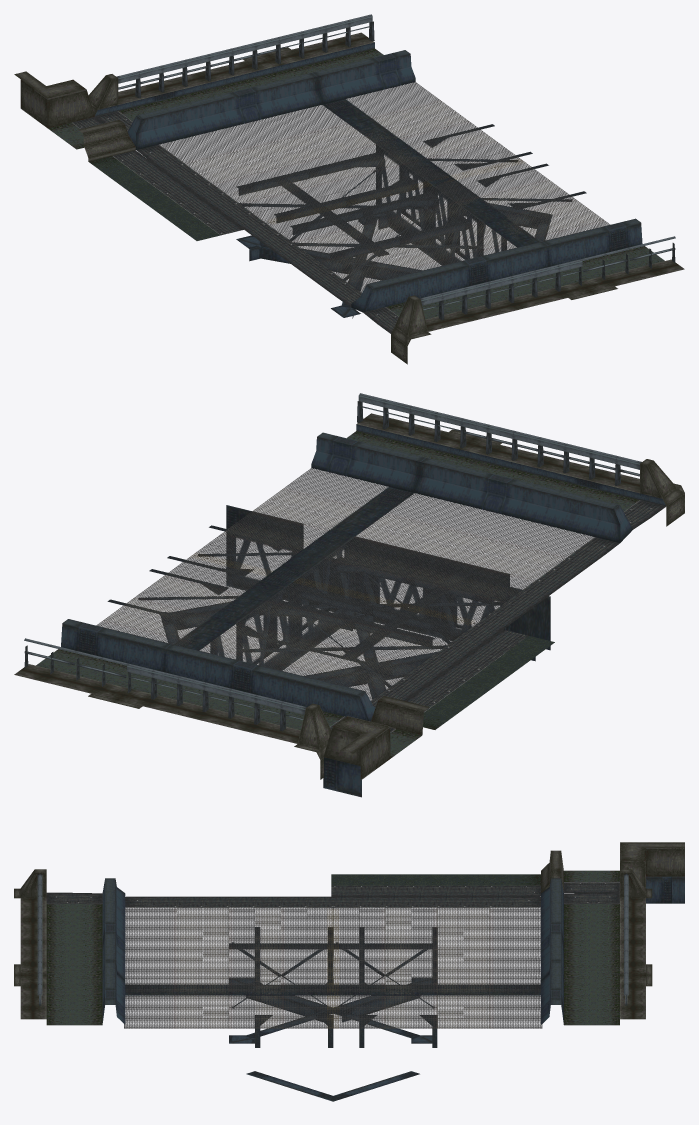
Rendered from THR05FE.glb.
3 renders of one model, top to bottom at view 1: azimuth 30°, elevation 25°; view 2: azimuth 150°, elevation 25°; view 3: azimuth 270°, elevation 25°, orthographic. The views are drawn at different scales.
Parts seen in each view (by area): view 1: AXIS1_HI_m8, AXIS1_HI_m2, AXIS1_HI_m0, AXIS1_HI_m9, AXIS1_HI_m7, AXIS1_HI_m1, AXIS2_BA_m0, AXIS1_HI_m4, AXIS2_BA_m2, AXIS1_HI_m5, C202_1_N_m0, THRC201_m0 (+6 smaller); view 2: AXIS1_HI_m2, AXIS2_BA_m0, AXIS1_HI_m8, AXIS1_HI_m0, AXIS1_HI_m1, AXIS1_HI_m9, AXIS1_HI_m7, AXIS1_HI_m4, AXIS2_BA_m2, AXIS1_HI_m5, C202_1_N_m0, THRC201_m0 (+6 smaller); view 3: AXIS1_HI_m2, AXIS1_HI_m8, AXIS1_HI_m0, AXIS1_HI_m9, AXIS1_HI_m4, AXIS1_HI_m5, AXIS1_HI_m1, AXIS1_HI_m7, C202_1_N_m0, THRC201_m0, AXIS2_BA_m3, AXIS2_BA_m0 (+3 smaller).
Boxes of the visible parts, x1,y1,x2,y2 form: AXIS1_HI_m8: [136, 105, 430, 228]; AXIS1_HI_m2: [243, 183, 556, 307]; AXIS1_HI_m0: [323, 99, 642, 309]; AXIS1_HI_m9: [312, 50, 522, 181]; AXIS1_HI_m7: [118, 32, 383, 149]; AXIS1_HI_m1: [351, 241, 684, 312]; AXIS2_BA_m0: [274, 139, 571, 265]; AXIS1_HI_m4: [363, 259, 594, 364]; AXIS2_BA_m2: [236, 124, 586, 262]; AXIS1_HI_m5: [88, 14, 372, 131]; C202_1_N_m0: [14, 71, 135, 161]; THRC201_m0: [89, 150, 243, 240]; AXIS1_HI_m2: [296, 437, 619, 630]; AXIS2_BA_m0: [138, 505, 550, 670]; AXIS1_HI_m8: [199, 580, 501, 707]; AXIS1_HI_m0: [174, 432, 639, 650]; AXIS1_HI_m1: [347, 413, 632, 542]; AXIS1_HI_m9: [61, 555, 295, 671]; AXIS1_HI_m7: [14, 644, 375, 721]; AXIS1_HI_m4: [450, 418, 684, 529]; AXIS2_BA_m2: [107, 525, 494, 670]; AXIS1_HI_m5: [24, 638, 345, 779]; C202_1_N_m0: [323, 696, 429, 797]; THRC201_m0: [406, 629, 554, 729]; AXIS1_HI_m2: [125, 896, 333, 984]; AXIS1_HI_m8: [332, 896, 540, 984]; AXIS1_HI_m0: [102, 960, 540, 1028]; AXIS1_HI_m9: [333, 961, 563, 1028]; AXIS1_HI_m4: [14, 869, 102, 981]; AXIS1_HI_m5: [564, 869, 652, 995]; AXIS1_HI_m1: [14, 878, 125, 1025]; AXIS1_HI_m7: [541, 878, 652, 1025]; C202_1_N_m0: [541, 842, 684, 903]; THRC201_m0: [331, 874, 540, 896]; AXIS2_BA_m3: [229, 977, 432, 1043]; AXIS2_BA_m0: [229, 943, 436, 1101].
Bounding box in the file's own units: 15.29 × 4.5 × 25.75.
Materials: 7 (7 with a texture image).
